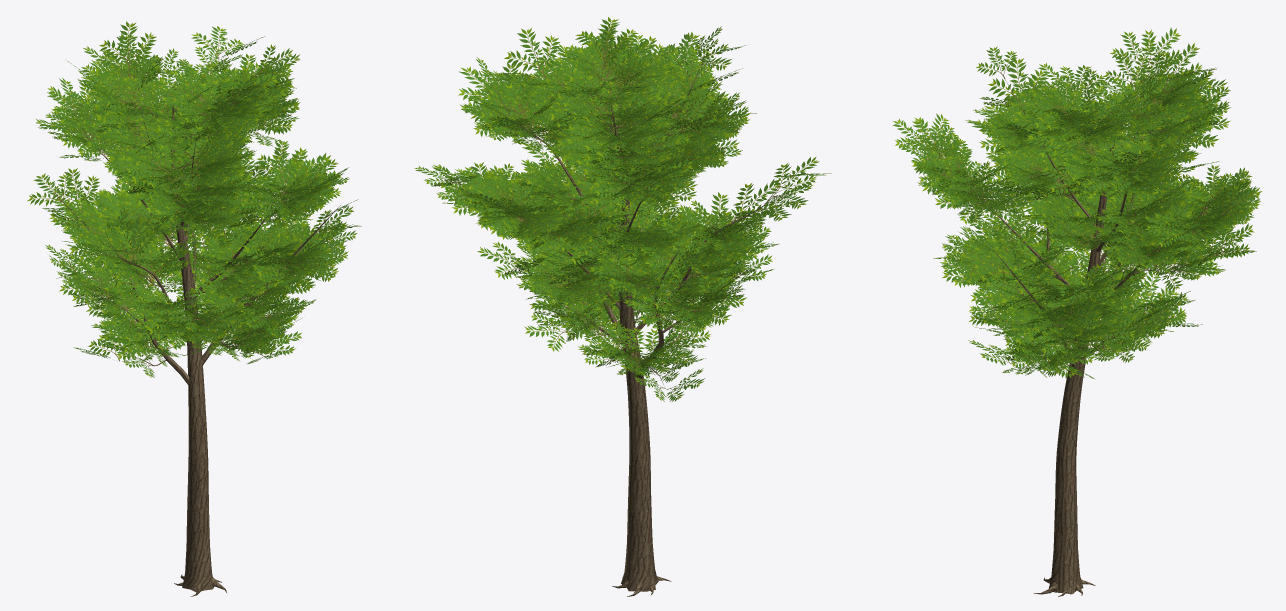
The model's file is corealm_ash_1.glb.
3 views of the same model, side by side, from view 1: azimuth 30°, elevation 25°; view 2: azimuth 150°, elevation 25°; view 3: azimuth 270°, elevation 25° (orthographic). The views are drawn at different scales.
Visible parts, largest first — view 1: corealm_ash_1; view 2: corealm_ash_1; view 3: corealm_ash_1.
Part boxes in pixels (x1,y1,x2,y2): corealm_ash_1: (27, 21, 361, 596); corealm_ash_1: (414, 17, 831, 596); corealm_ash_1: (892, 27, 1261, 596).
Bounding box in the file's own units: 6.55 × 10 × 6.62.
2 materials, 2 textured.
